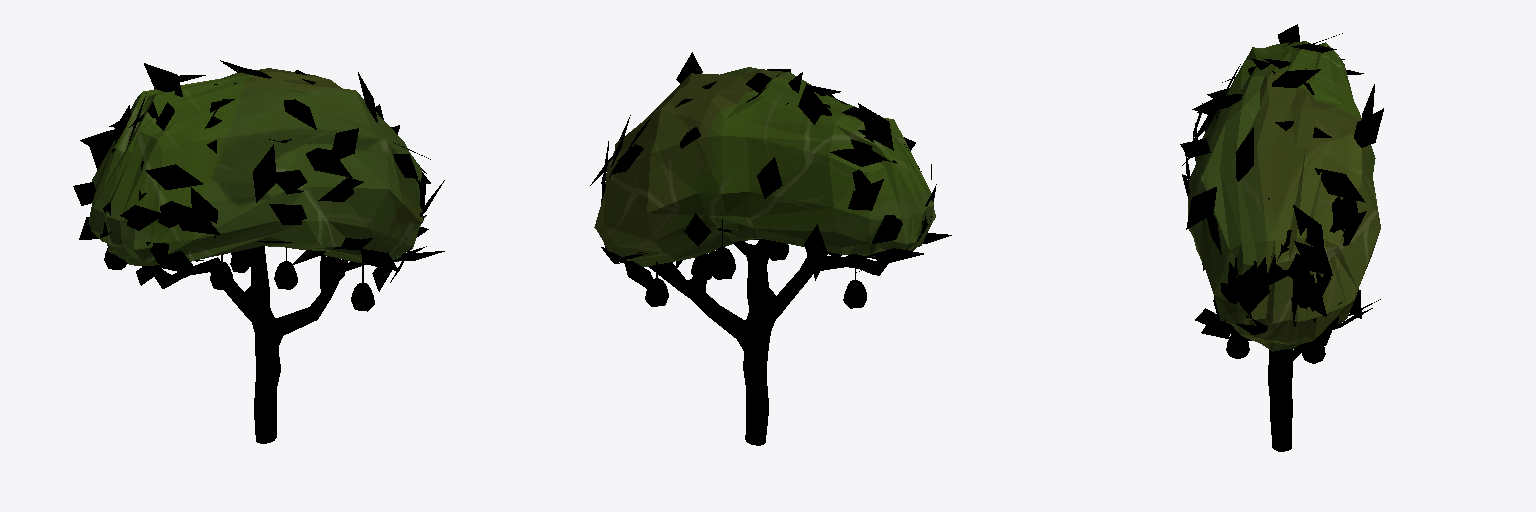
3 renders of one model, left to right at view 1: azimuth 30°, elevation 25°; view 2: azimuth 150°, elevation 25°; view 3: azimuth 270°, elevation 25°, orthographic.
Parts seen in each view (by area): view 1: ameba, MASH1_ReproMesh, polySurface2 pCube9, pCube9 polySurface7, pCube9 polySurface3, pCube9 polySurface8; view 2: ameba, MASH1_ReproMesh, polySurface2 pCube9, pCube9 polySurface6, pCube9 polySurface9, pCube9 polySurface5; view 3: ameba, MASH1_ReproMesh, polySurface2 pCube9.
Boxes of the visible parts, box(x1,y1,x2,y2) form: ameba: box(89, 68, 423, 266); MASH1_ReproMesh: box(73, 60, 444, 291); polySurface2 pCube9: box(155, 246, 347, 443); pCube9 polySurface7: box(351, 257, 374, 311); pCube9 polySurface3: box(274, 248, 297, 289); pCube9 polySurface8: box(210, 255, 233, 290); ameba: box(594, 67, 935, 266); MASH1_ReproMesh: box(590, 52, 951, 288); polySurface2 pCube9: box(648, 240, 888, 445); pCube9 polySurface6: box(709, 219, 735, 279); pCube9 polySurface9: box(843, 254, 866, 308); pCube9 polySurface5: box(645, 262, 668, 306); ameba: box(1188, 41, 1380, 351); MASH1_ReproMesh: box(1180, 24, 1383, 361); polySurface2 pCube9: box(1268, 349, 1292, 451).
Size of the model in its own units: 8.65 by 9.24 by 4.66.
4 materials, 1 textured.